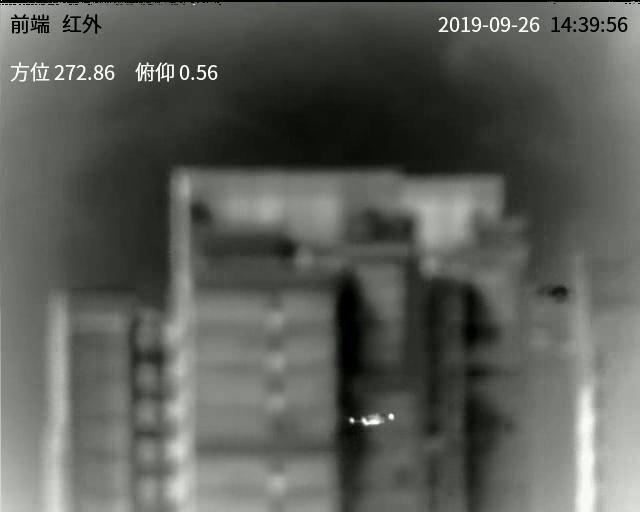DRONE: (348, 411, 396, 428)
